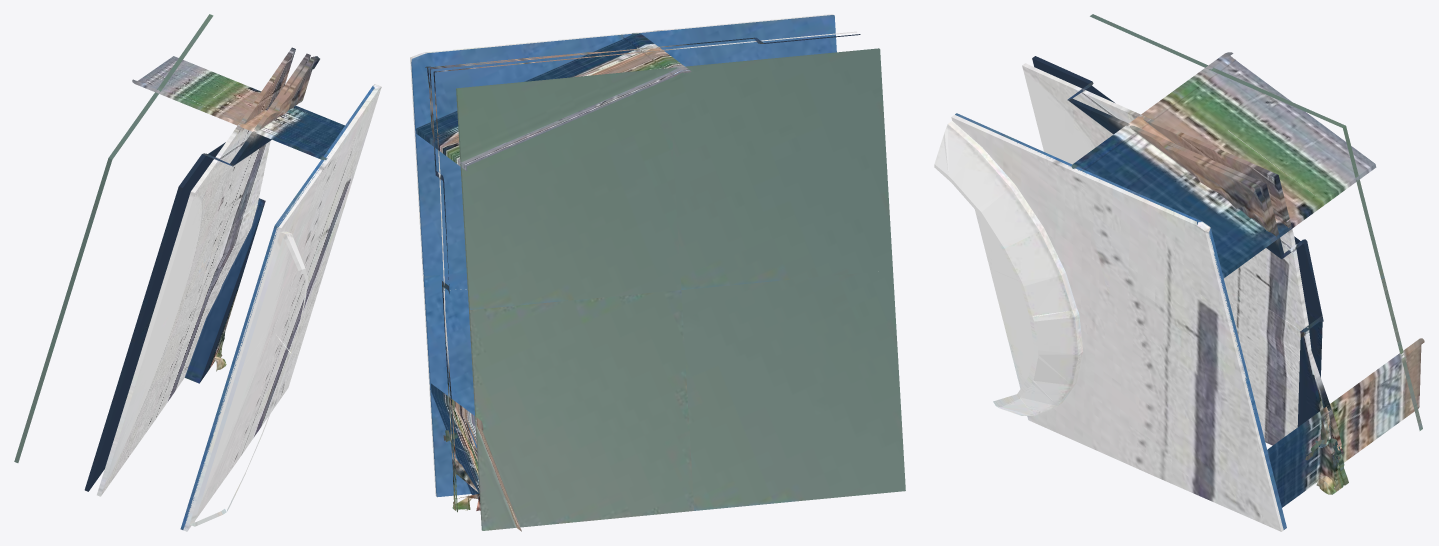
Rendered from congresso_tile_196.glb.
The picture shows the model from 3 angles, left to right: view 1: azimuth 30°, elevation 25°; view 2: azimuth 150°, elevation 25°; view 3: azimuth 270°, elevation 25°; orthographic projection. The views are drawn at different scales.
Bounding box in the file's own units: 46.46 × 42.8 × 48.88.
3 materials, 3 textured.
